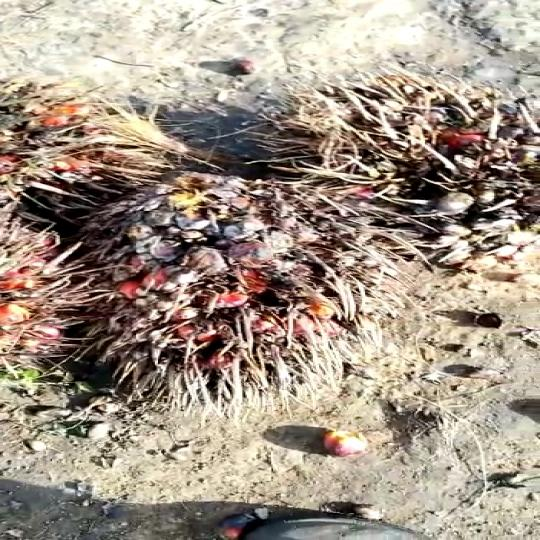terlalu masak: (61, 165, 403, 408), (273, 73, 540, 214)
